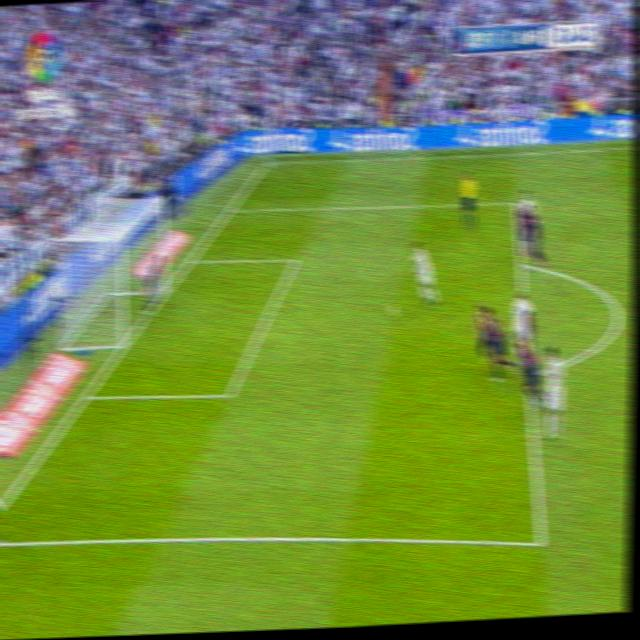bigarea_bottom_inner: (221, 378, 237, 408)
bigarea_top_outter: (225, 202, 235, 215)
corner: (261, 157, 273, 167)
smallarea_bottom_outter: (78, 383, 93, 407)
